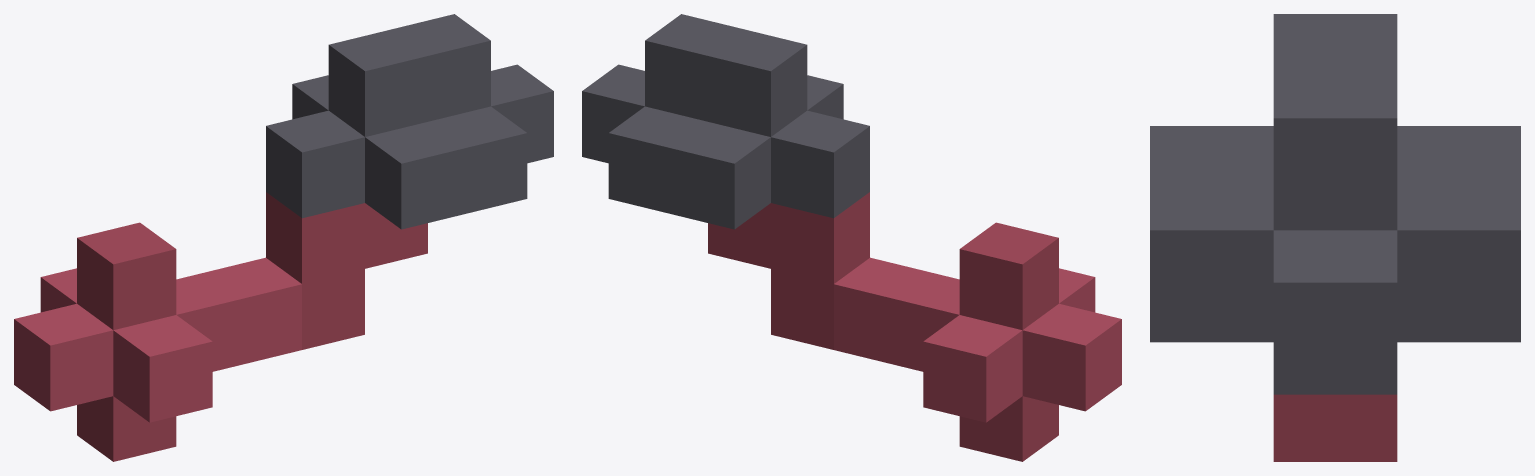
Rendered from rat-3.obj.
3 views of the same model, side by side, from view 1: azimuth 30°, elevation 25°; view 2: azimuth 150°, elevation 25°; view 3: azimuth 270°, elevation 25° (orthographic). The views are drawn at different scales.
Bounding box in the file's own units: 0.8 × 0.5 × 0.3.
Materials: 1 (1 with a texture image).
